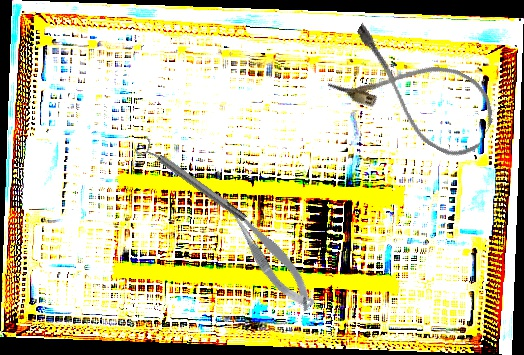Cannula: (326, 18, 506, 167)
Fixation Ring: (133, 134, 251, 229)
Micro Scissor: (214, 182, 321, 321)
